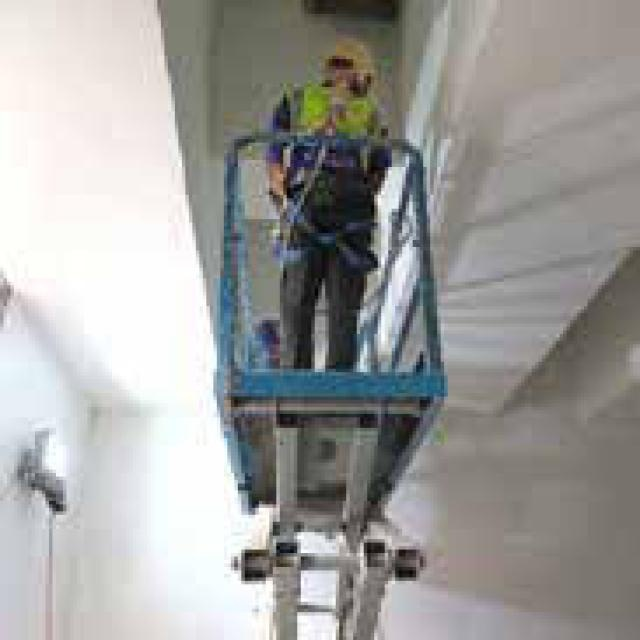Arnes_seguridad: (281, 80, 378, 274)
